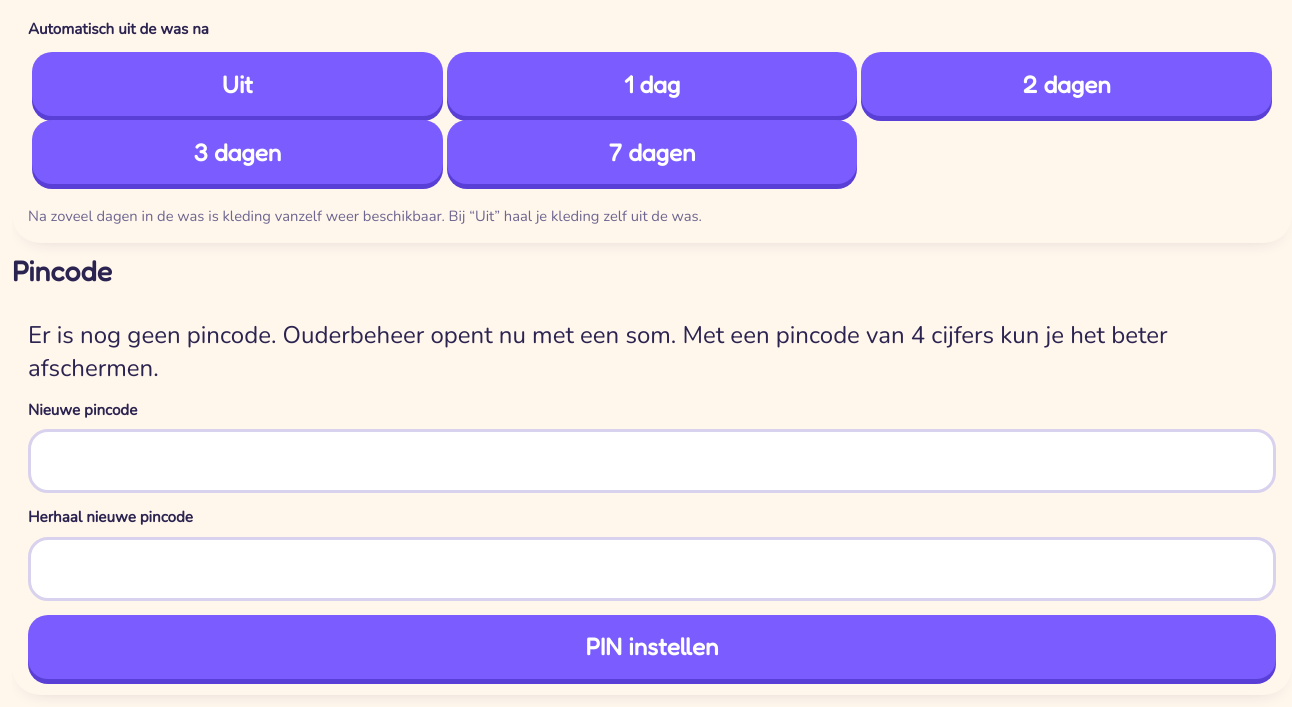
Test case: pincode instellen › stelt een nieuwe PIN in
(page scrolled)
Expected: the button "PIN instellen" is shown, [28,615,1276,679]
Type "1357" into the password field labelled "Nieuwe pincode" at [652, 461], box [28,429,1276,493]
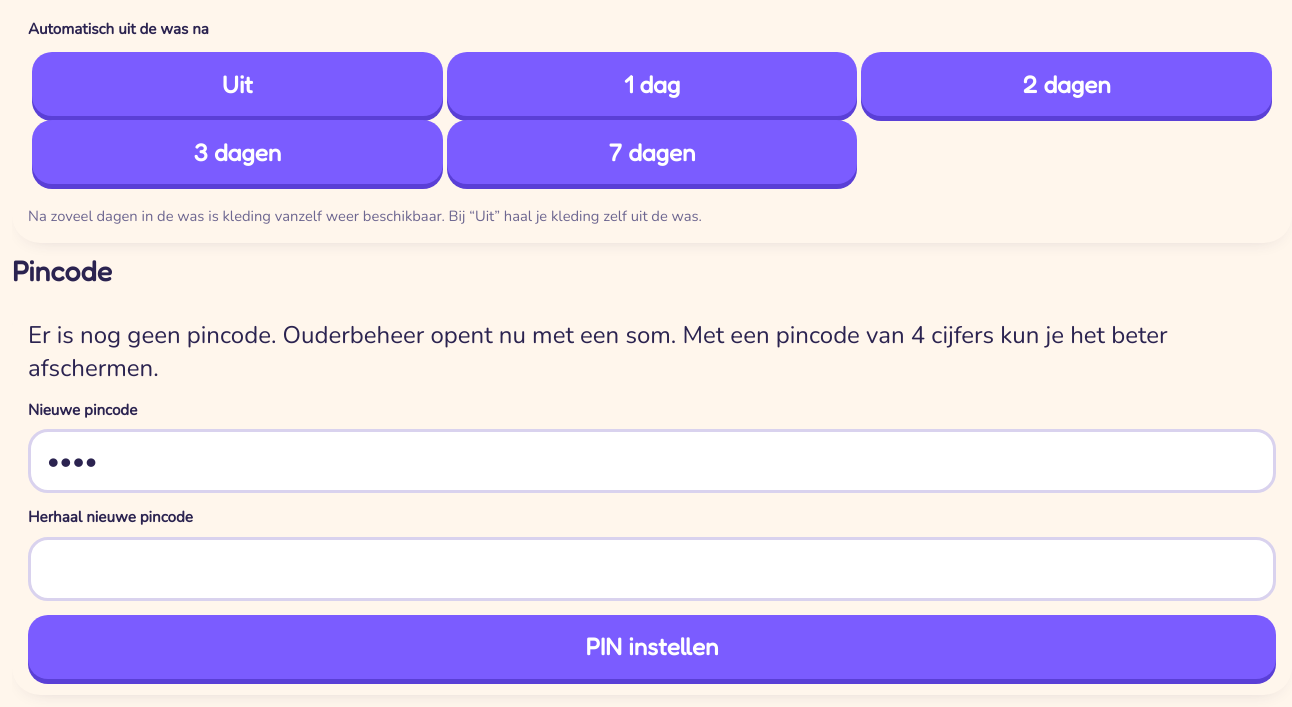
Type "1357" into the password field labelled "Herhaal nieuwe pincode" at [652, 569], box [28,537,1276,601]
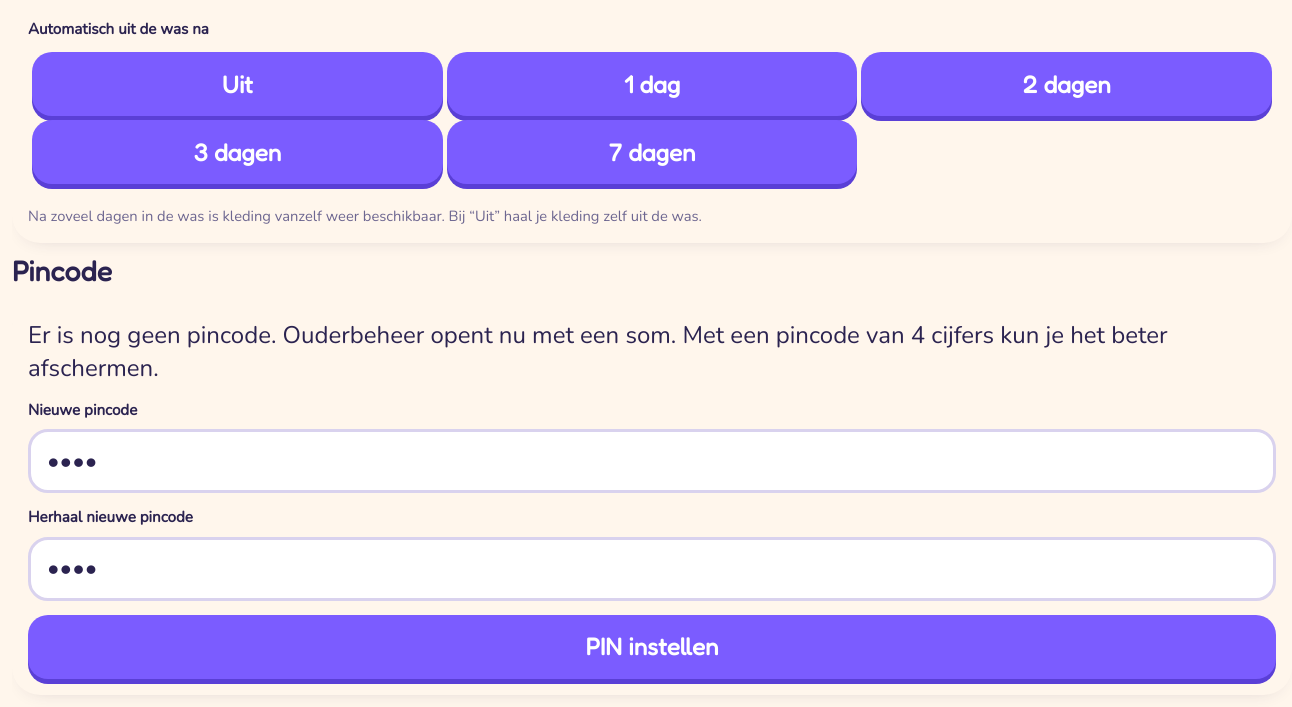
Click the button "PIN instellen" at [652, 647], box [28,615,1276,679]
(page scrolled)
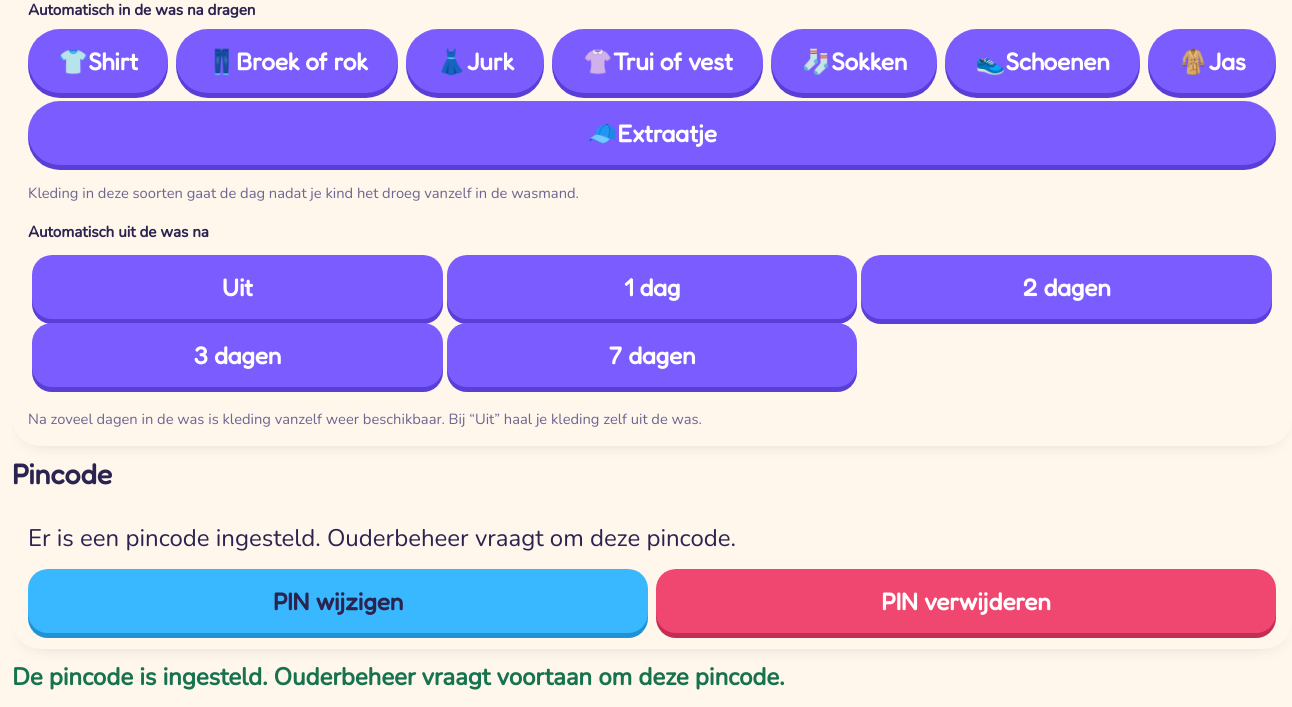
Now the message shows "De pincode is ingesteld", box [12,662,784,694]
Now the button "PIN wijzigen" is shown, box [28,570,648,634]
Now the button "PIN verwijderen" is shown, box [656,570,1276,634]
